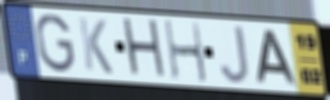A: (255, 28, 299, 88)
G: (34, 12, 77, 75)
H: (120, 16, 170, 83), (162, 19, 210, 85)
J: (218, 23, 251, 86)
K: (76, 15, 115, 77)
